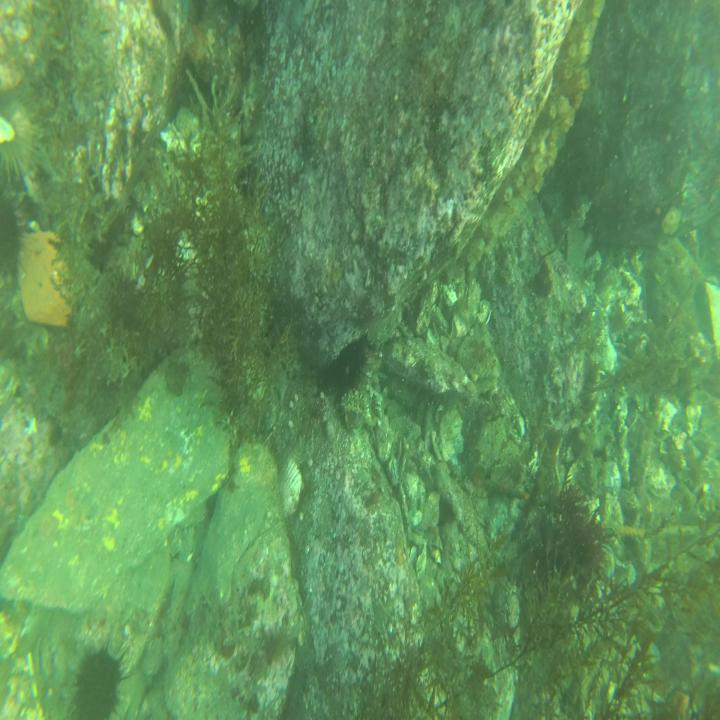echinus: (71, 641, 124, 720), (333, 338, 367, 390)
scallop: (275, 456, 304, 521)
